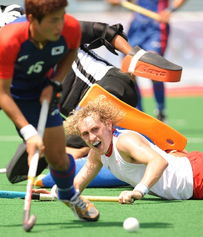fall: (37, 98, 203, 208)
